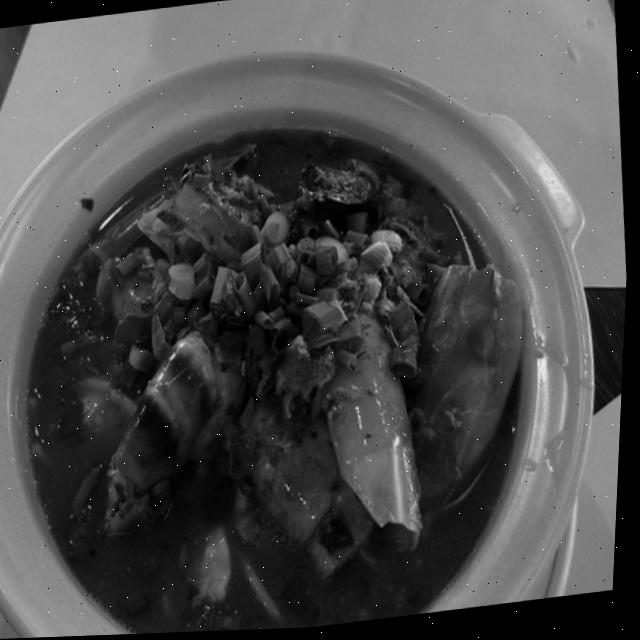汤锅炖物: (21, 140, 490, 598)
